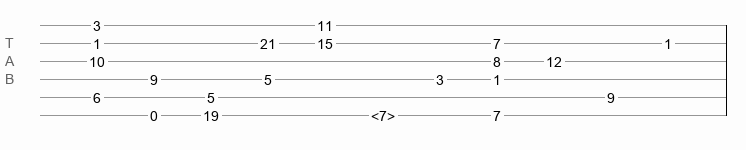0: (150, 108, 158, 118)
1: (93, 36, 101, 46), (493, 72, 501, 82), (664, 36, 672, 46)
10: (89, 54, 105, 64)
11: (317, 18, 333, 28)
12: (546, 54, 562, 64)
15: (317, 36, 333, 46)
19: (203, 108, 219, 118)
21: (260, 36, 276, 46)
3: (93, 18, 101, 28), (436, 72, 444, 82)
5: (207, 90, 215, 100), (264, 72, 272, 82)
6: (93, 90, 101, 100)
7: (493, 108, 501, 118), (493, 36, 501, 46)
8: (493, 54, 501, 64)
9: (150, 72, 158, 82), (607, 90, 615, 100)
harmonic: (371, 108, 395, 118)
